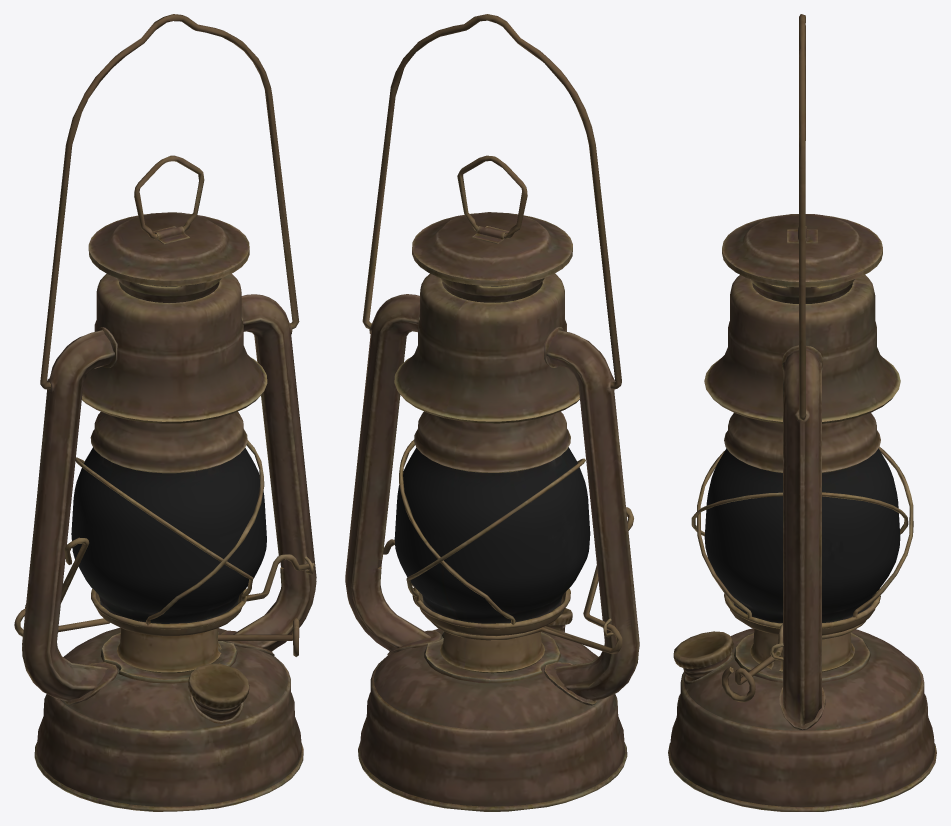
The model's file is Lantern_01.glb.
3 renders of one model, left to right at view 1: azimuth 30°, elevation 25°; view 2: azimuth 150°, elevation 25°; view 3: azimuth 270°, elevation 25°, orthographic.
Visible parts, largest first — view 1: Lantern_01, Lantern_01_glass; view 2: Lantern_01, Lantern_01_glass; view 3: Lantern_01, Lantern_01_glass.
Part boxes in pixels (x1,y1,x2,y2): Lantern_01: (14,14,316,811); Lantern_01_glass: (71,447,266,623); Lantern_01: (345,14,639,811); Lantern_01_glass: (394,447,590,623); Lantern_01: (668,14,936,811); Lantern_01_glass: (704,448,900,623).
Bounding box in the file's own units: 0.1219 × 0.2942 × 0.097.
2 materials, 2 textured.
